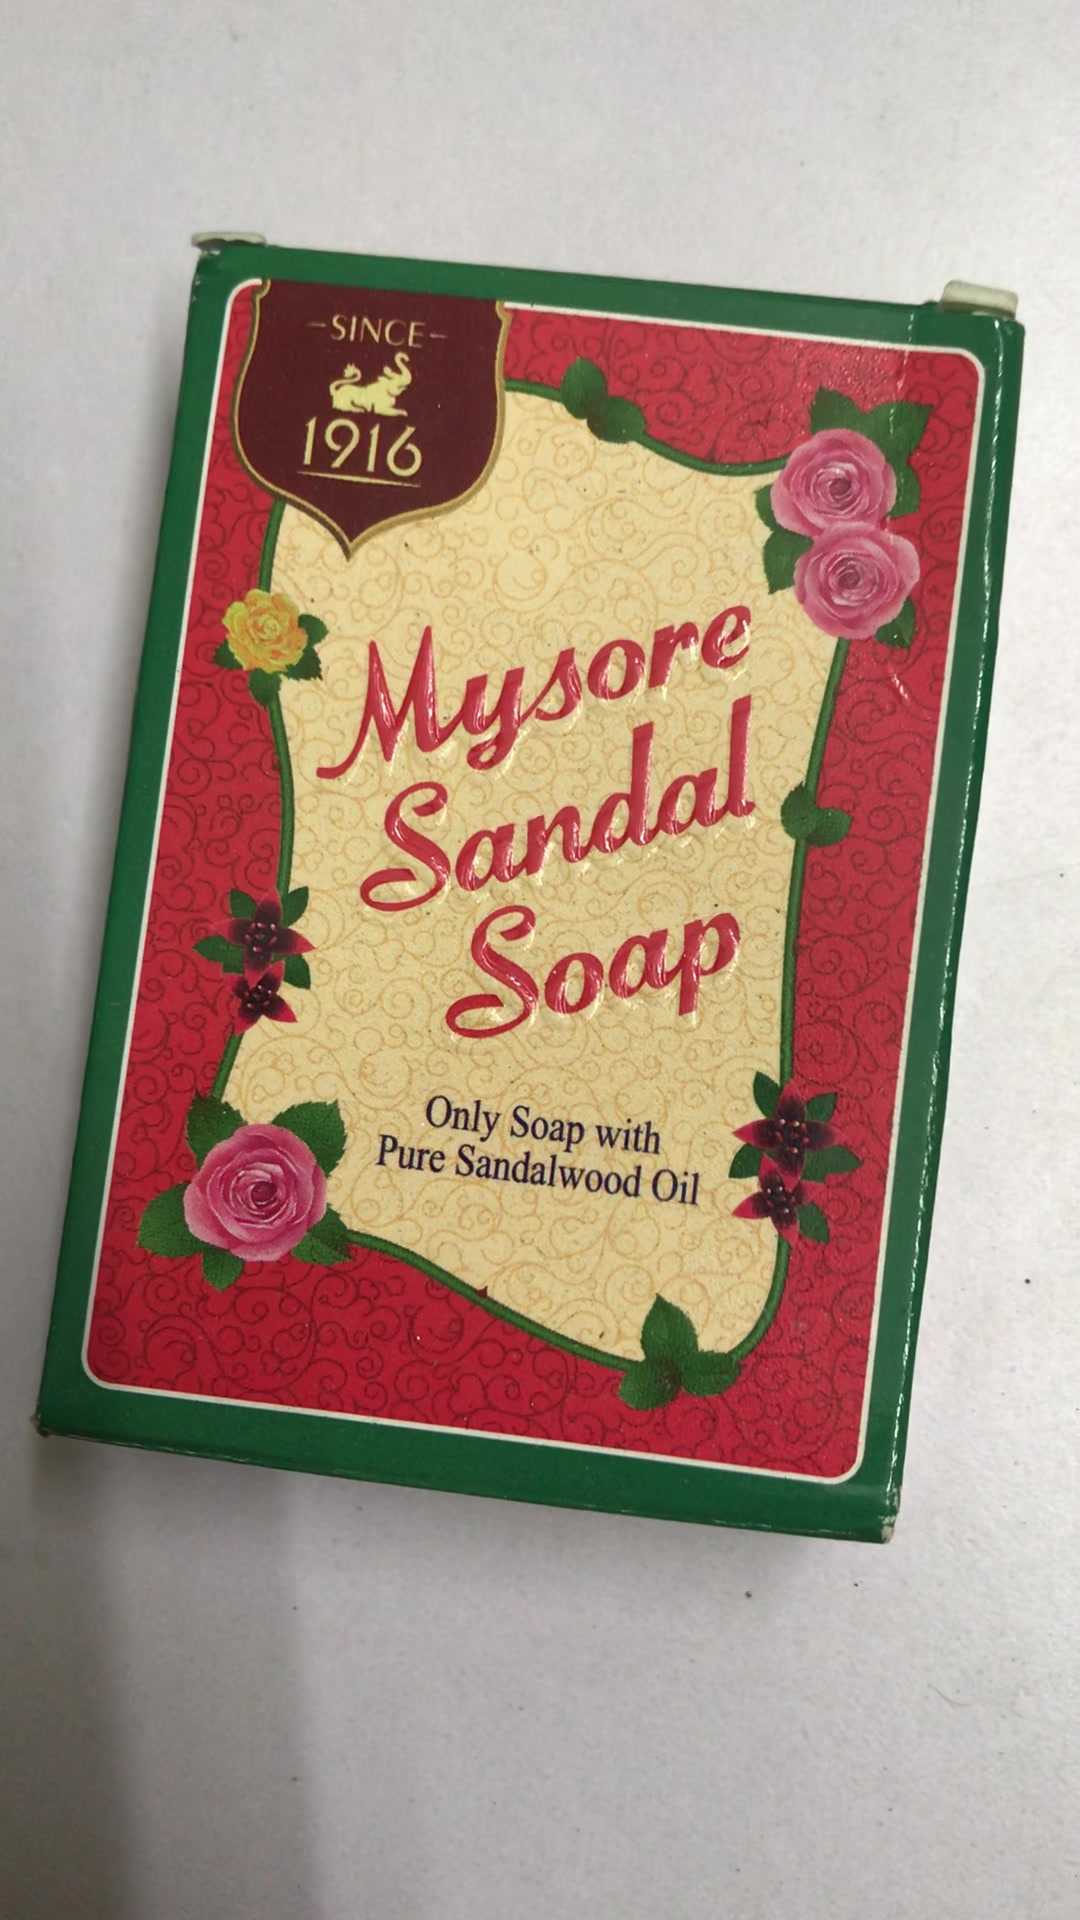mysore sandal soap: (38, 231, 1030, 1545)
